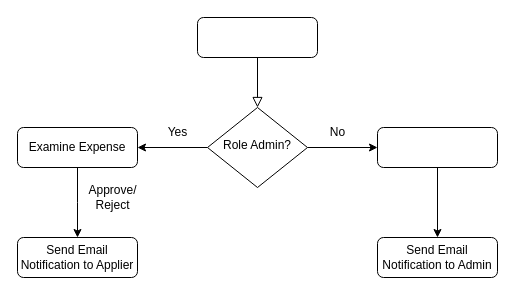
Some shapes in this 515 by 295 pixel diagram are drawn without their labels. Each missing label, with the centre of its shape:
Apply Expense: point (437, 147)
User Login: point (257, 37)
